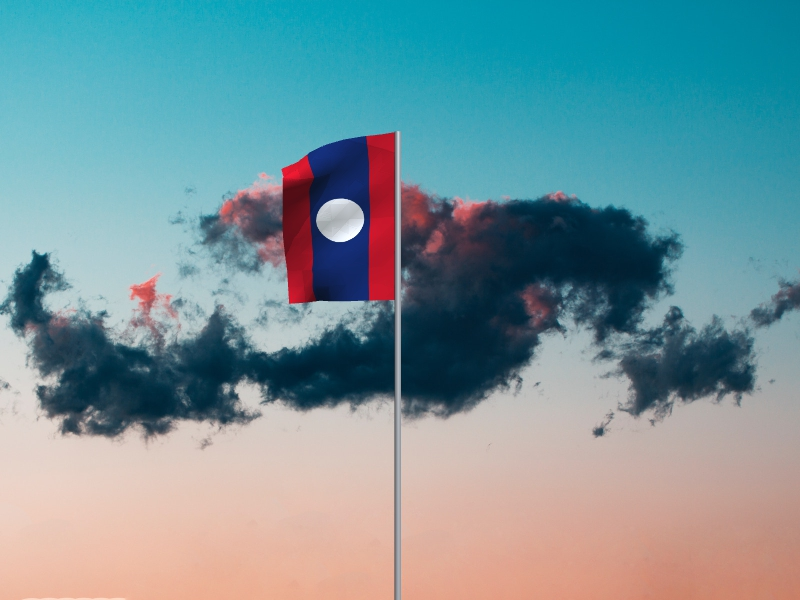la: (281, 132, 395, 305)
